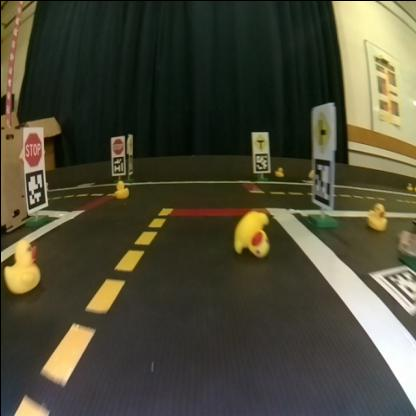Duckie: (2, 239, 38, 292), (233, 210, 268, 256), (366, 202, 386, 230), (115, 179, 128, 197), (274, 167, 282, 175)
Intersection sign: (312, 109, 330, 150), (252, 132, 266, 150), (126, 136, 132, 150)
QR code: (368, 264, 415, 314), (312, 155, 330, 203), (24, 168, 44, 209), (253, 152, 268, 170), (110, 156, 122, 172), (126, 154, 132, 172)
Stop sign: (22, 131, 42, 165), (110, 136, 122, 154)
